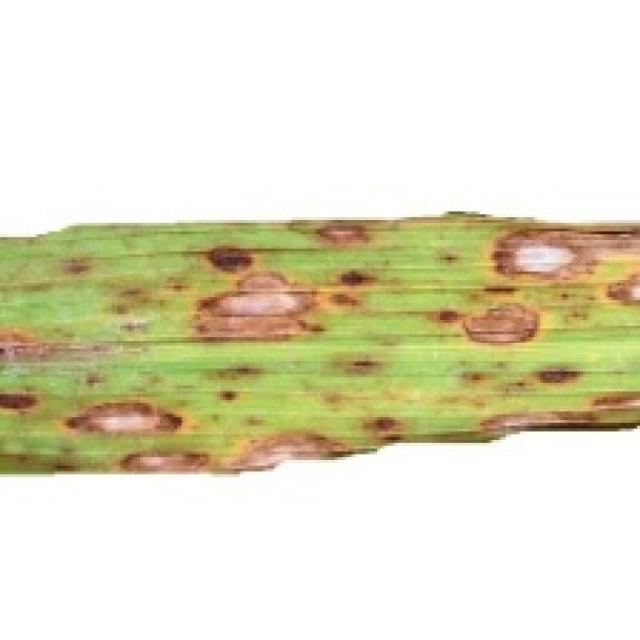Rice___Brown_Spot: (0, 213, 637, 474)
